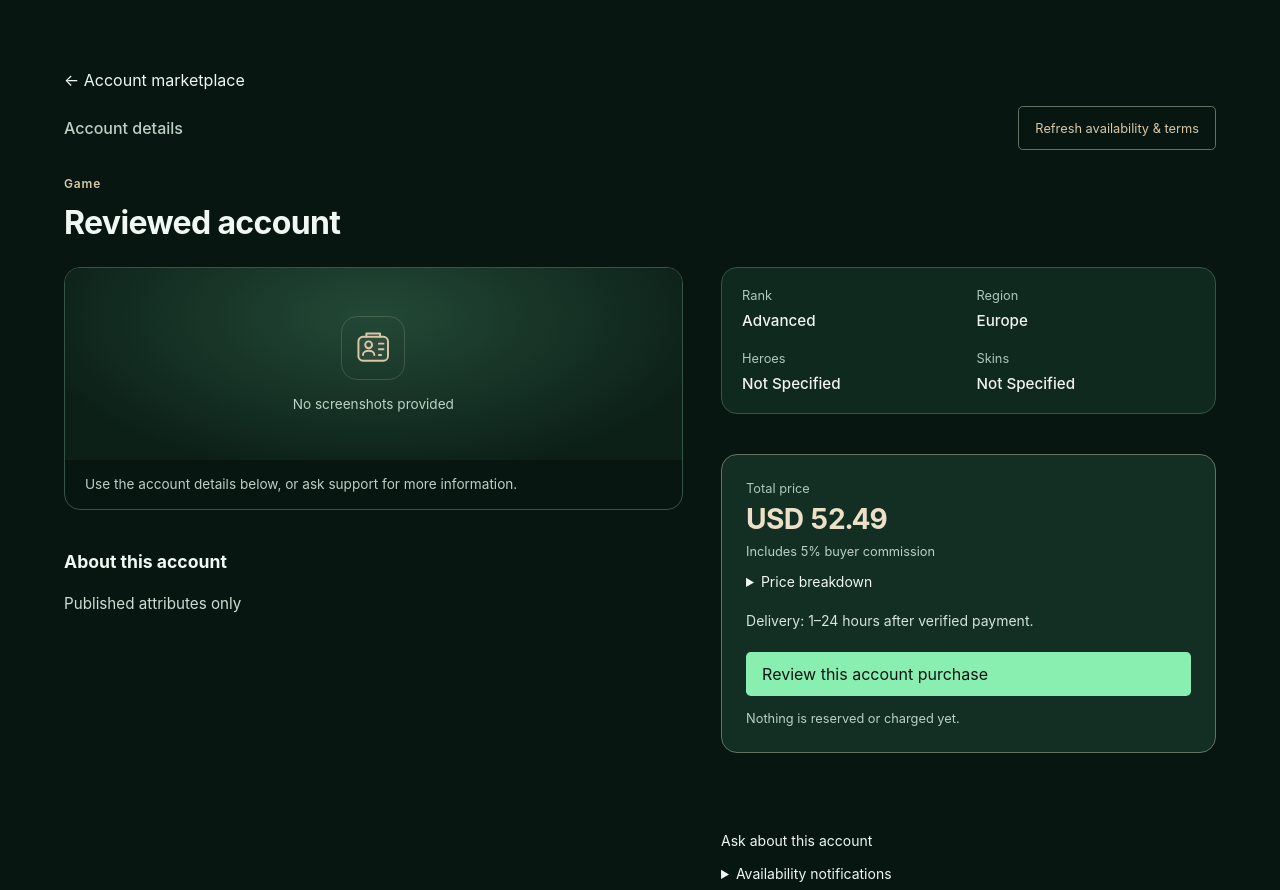
Test case: discloses the complete buyer price before consent (direct=false)
The width and height of the screenshot is (1280, 890).
Step 1. Click the button "Review this account purchase" → (969, 674), box [746, 652, 1191, 696]
(page scrolled)
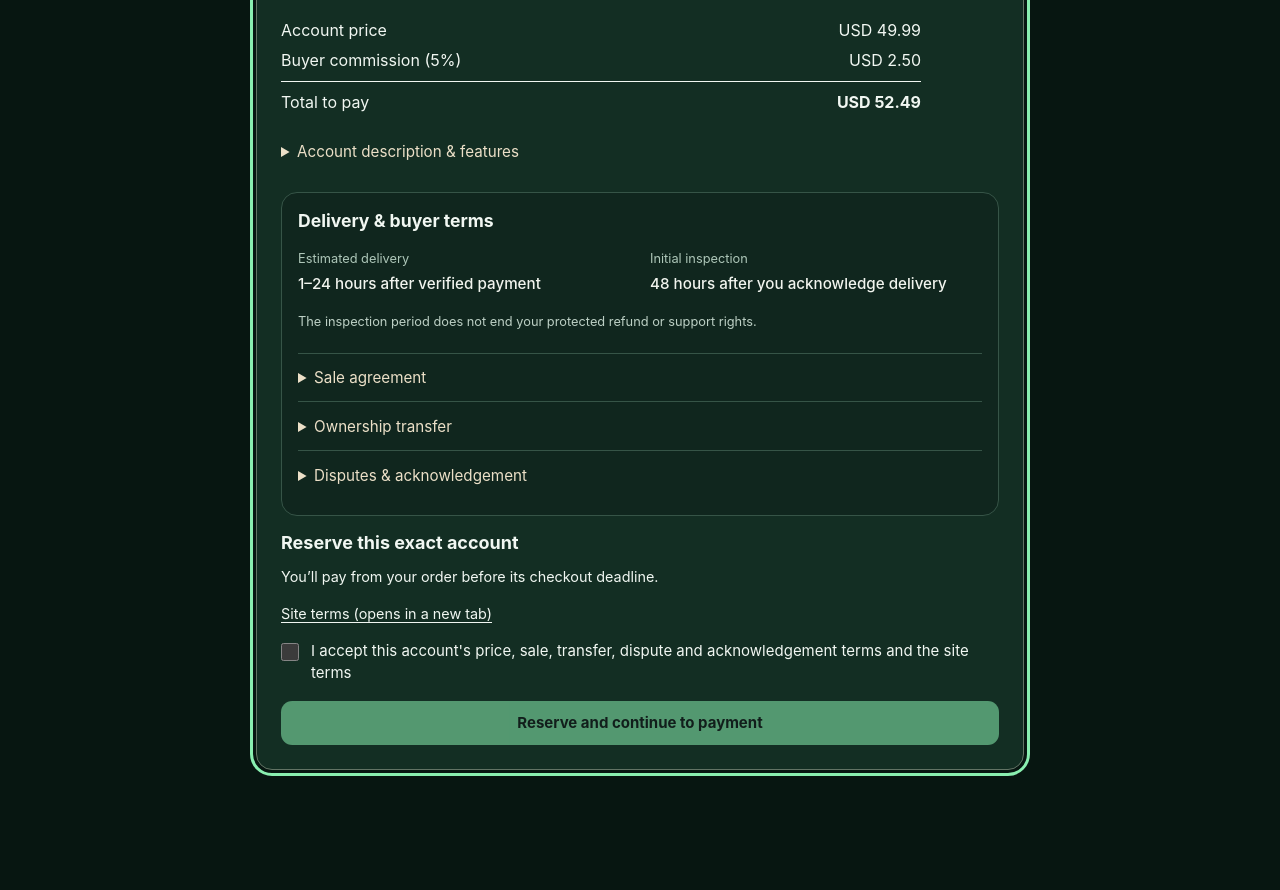
Now the element named "Account price breakdown" is shown, box [281, 20, 921, 112]
Now the button "Reserve and continue to payment" is disabled, box [281, 701, 999, 745]
